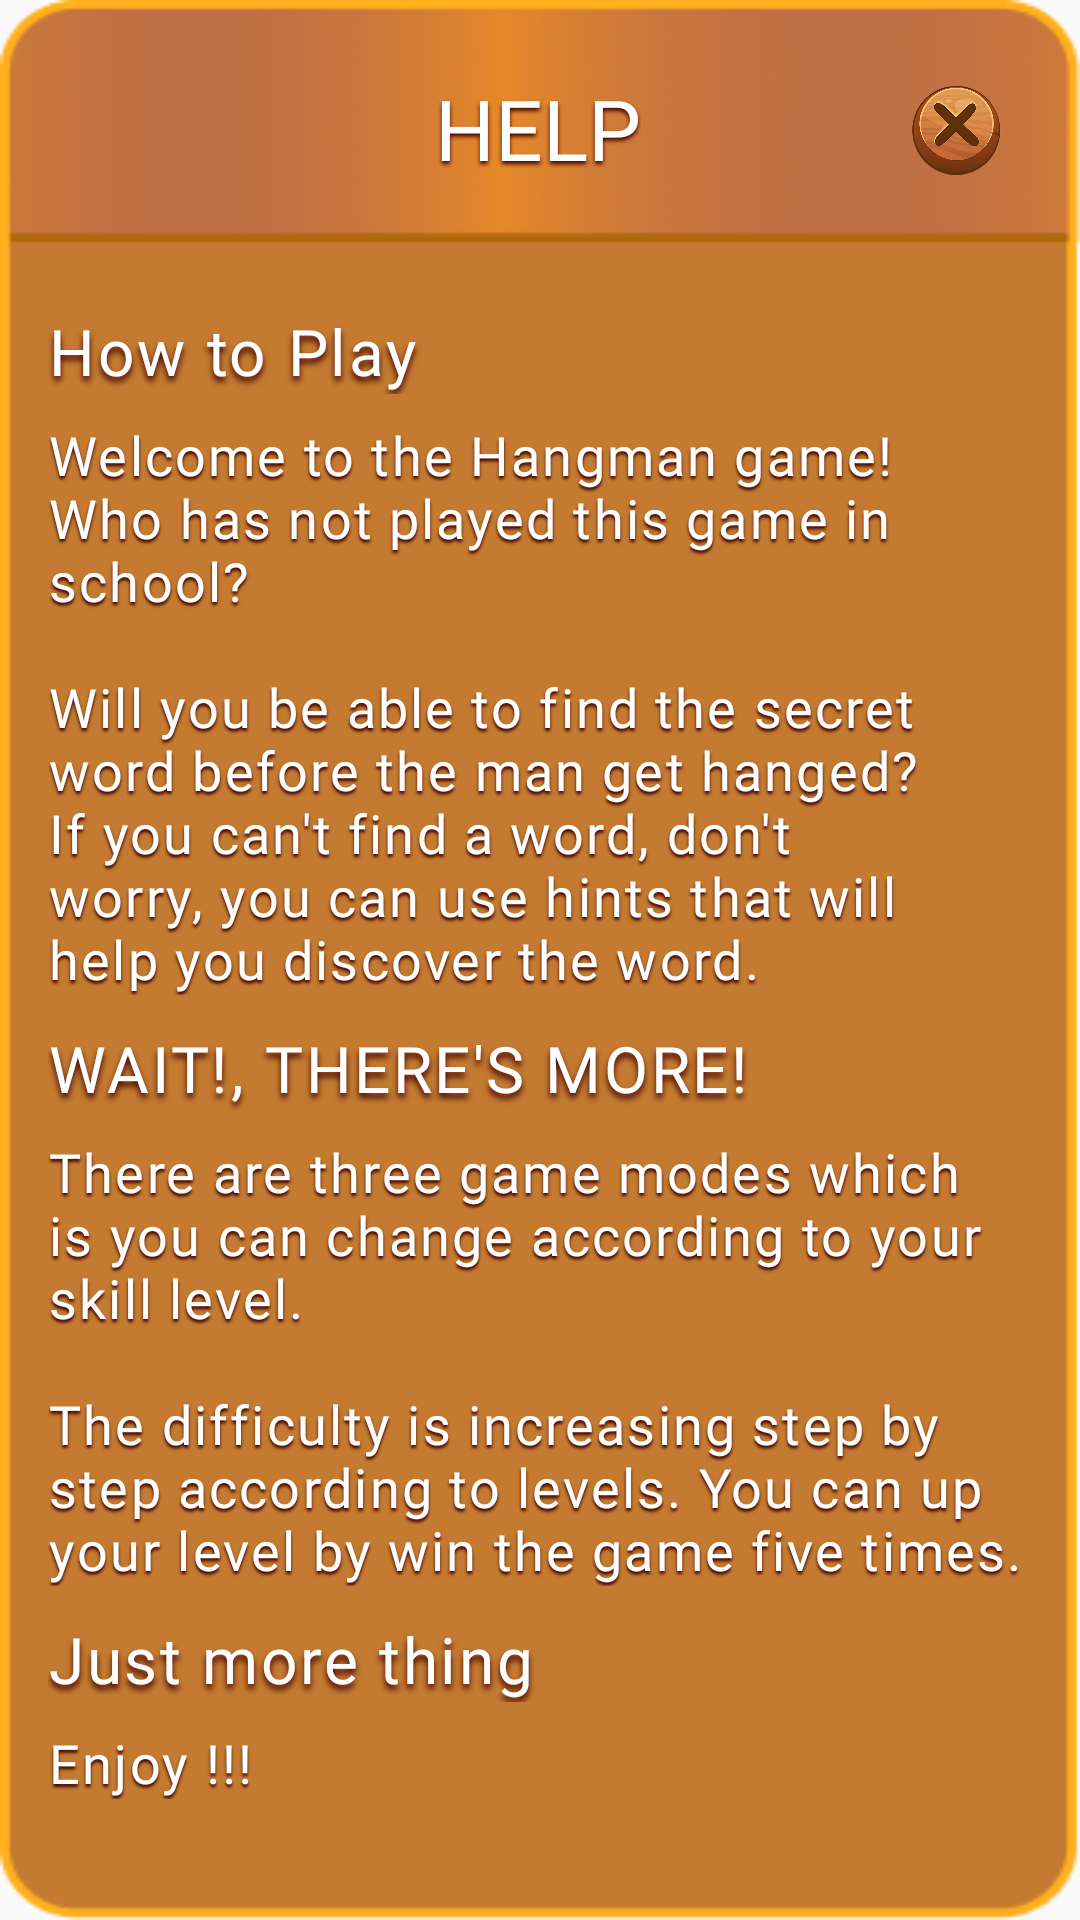

Named icons in this screenshot (1080w x 1920h) and their centers, point (x, y):
popup close: point (956, 130)
